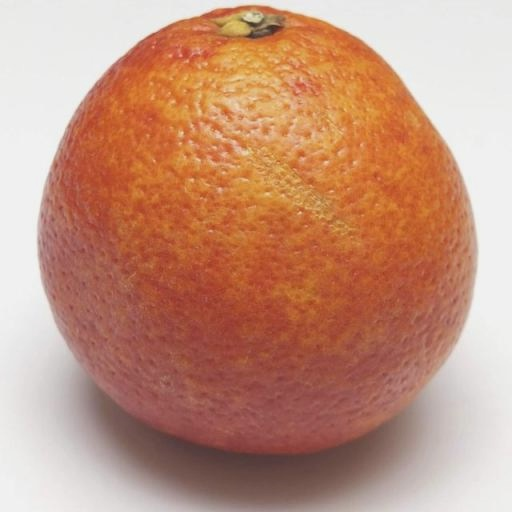fruit: (39, 8, 475, 452)
